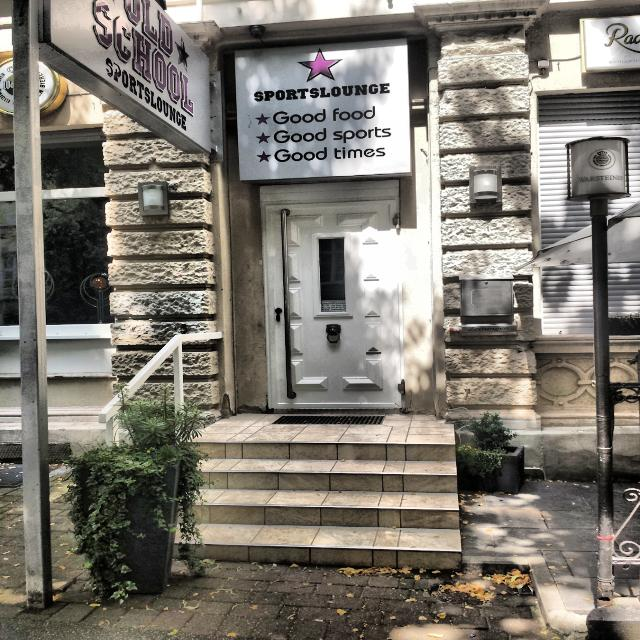escada: (136, 439, 462, 576)
